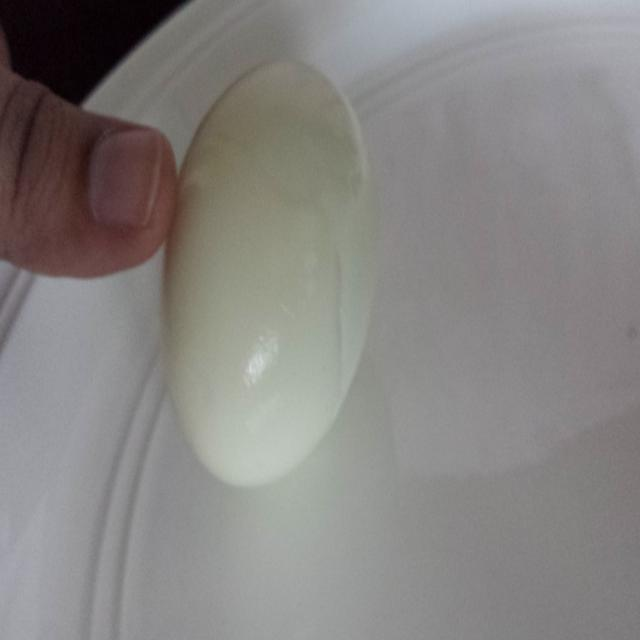egg: (162, 51, 380, 526)
